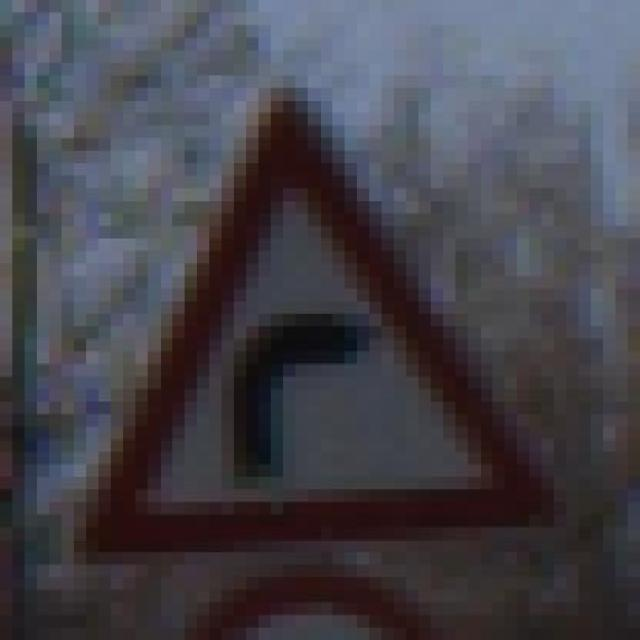Dangerous Rright Curve Ahead: (74, 88, 566, 552)
